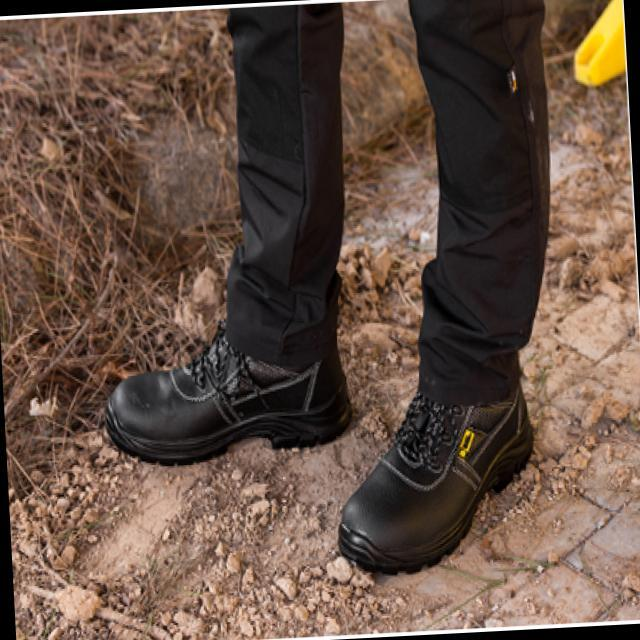boots: (92, 234, 549, 593)
